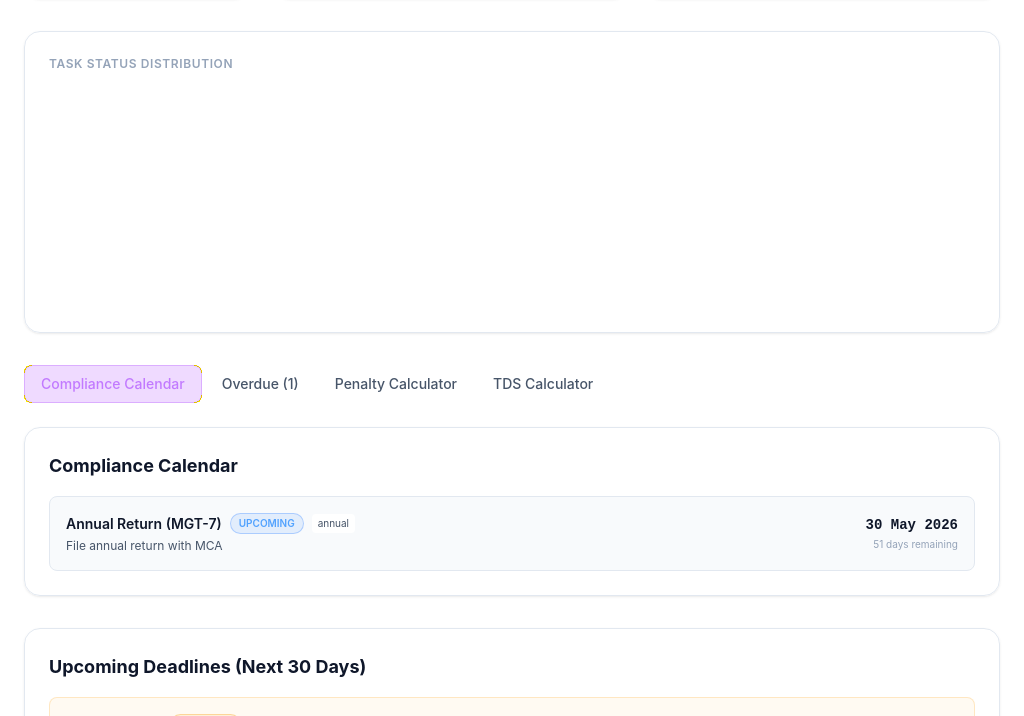
it: ComplianceDashboard › renders overdue tasks when they exist
(page scrolled)
Click the button "Overdue (1)": (260,384) [206,365,315,403]
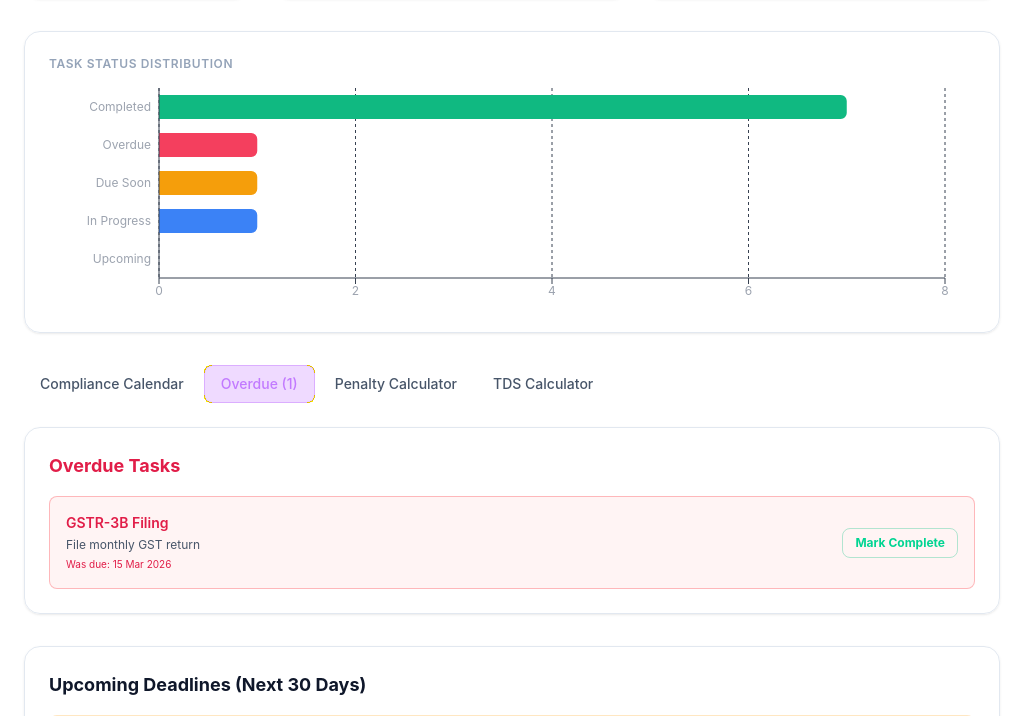
Expected: the heading "GSTR-3B Filing" is shown, [66,514,168,531]
Expected: the button "Mark Complete" is shown, [842,528,958,558]
